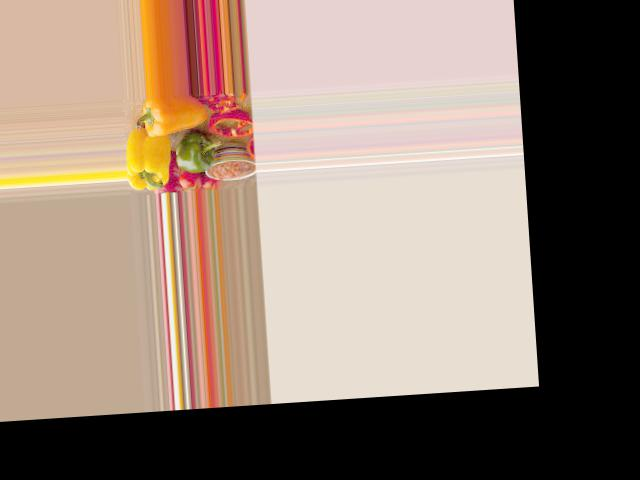bell_pepper: (125, 137, 174, 190)
